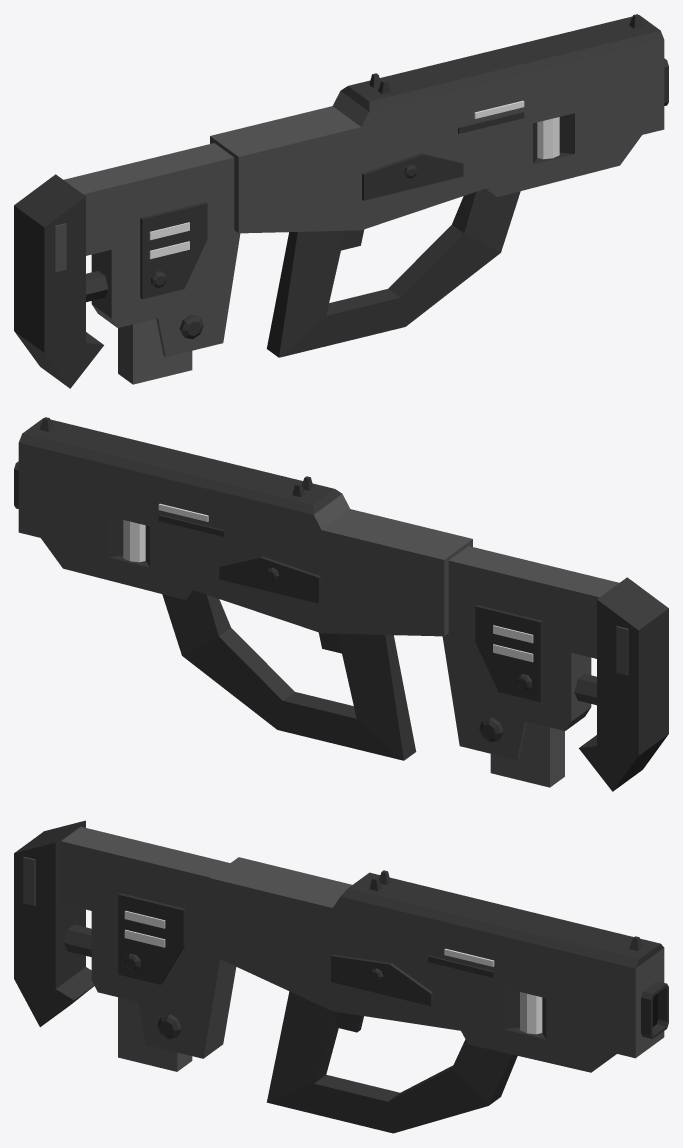
File: Rifle_E_V1.FBX
The picture shows the model from 3 angles, top to bottom: view 1: azimuth 30°, elevation 25°; view 2: azimuth 150°, elevation 25°; view 3: azimuth 330°, elevation 25°; orthographic projection.
Visible parts, largest first — view 1: Rifle_E_V1, Magazine; view 2: Rifle_E_V1, Magazine; view 3: Rifle_E_V1, Magazine.
Part boxes in pixels (left/top/right/bottom): Rifle_E_V1: left=14, top=14, right=668, bottom=388; Magazine: left=118, top=319, right=192, bottom=384; Rifle_E_V1: left=14, top=417, right=668, bottom=791; Magazine: left=490, top=722, right=564, bottom=787; Rifle_E_V1: left=14, top=820, right=668, bottom=1133; Magazine: left=118, top=997, right=192, bottom=1071.
Size of the model in its own units: 340 by 128 by 34.55.
